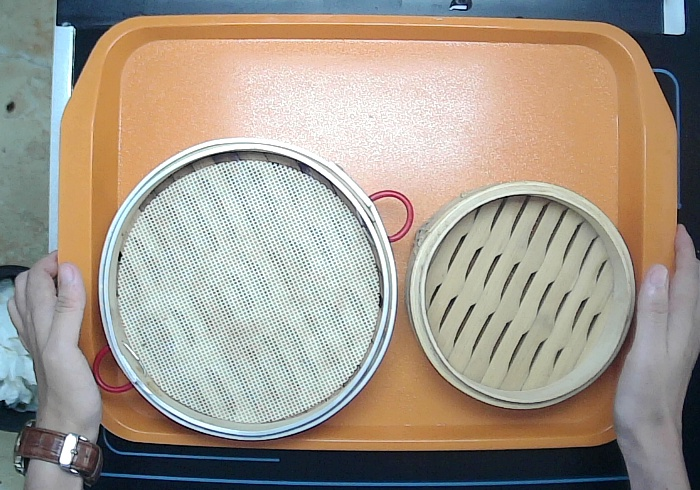ZNLD-Da_Zheng_Long: (90, 135, 415, 443)
ZNLD-Xiao_Zheng_Long: (402, 177, 639, 411)
